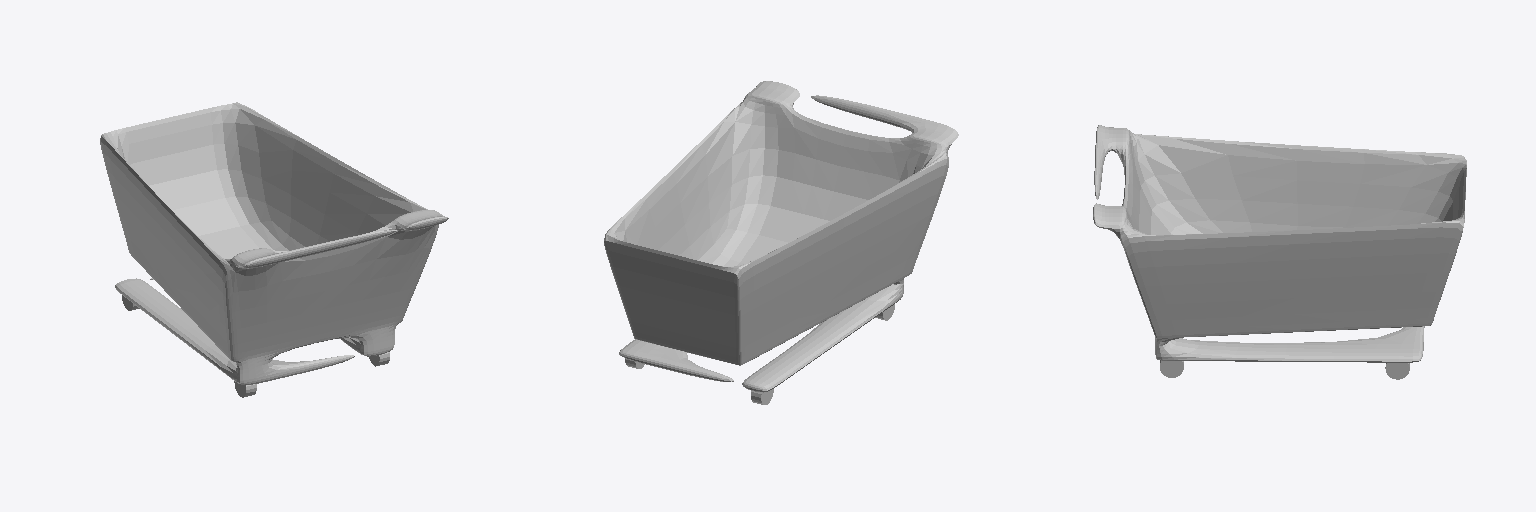
File: CatTrolley.obj
The picture shows the model from 3 angles: view 1: azimuth 30°, elevation 25°; view 2: azimuth 150°, elevation 25°; view 3: azimuth 270°, elevation 25°; orthographic projection.
Visible parts, largest first — view 1: CatTrolley:pCube2; view 2: CatTrolley:pCube2; view 3: CatTrolley:pCube2.
Boxes of the visible parts, box(x1,y1,x2,y2) form: CatTrolley:pCube2: box(100, 102, 448, 397); CatTrolley:pCube2: box(604, 81, 958, 404); CatTrolley:pCube2: box(1093, 125, 1466, 379).
Size of the model in its own units: 4 by 3.1 by 6.13.